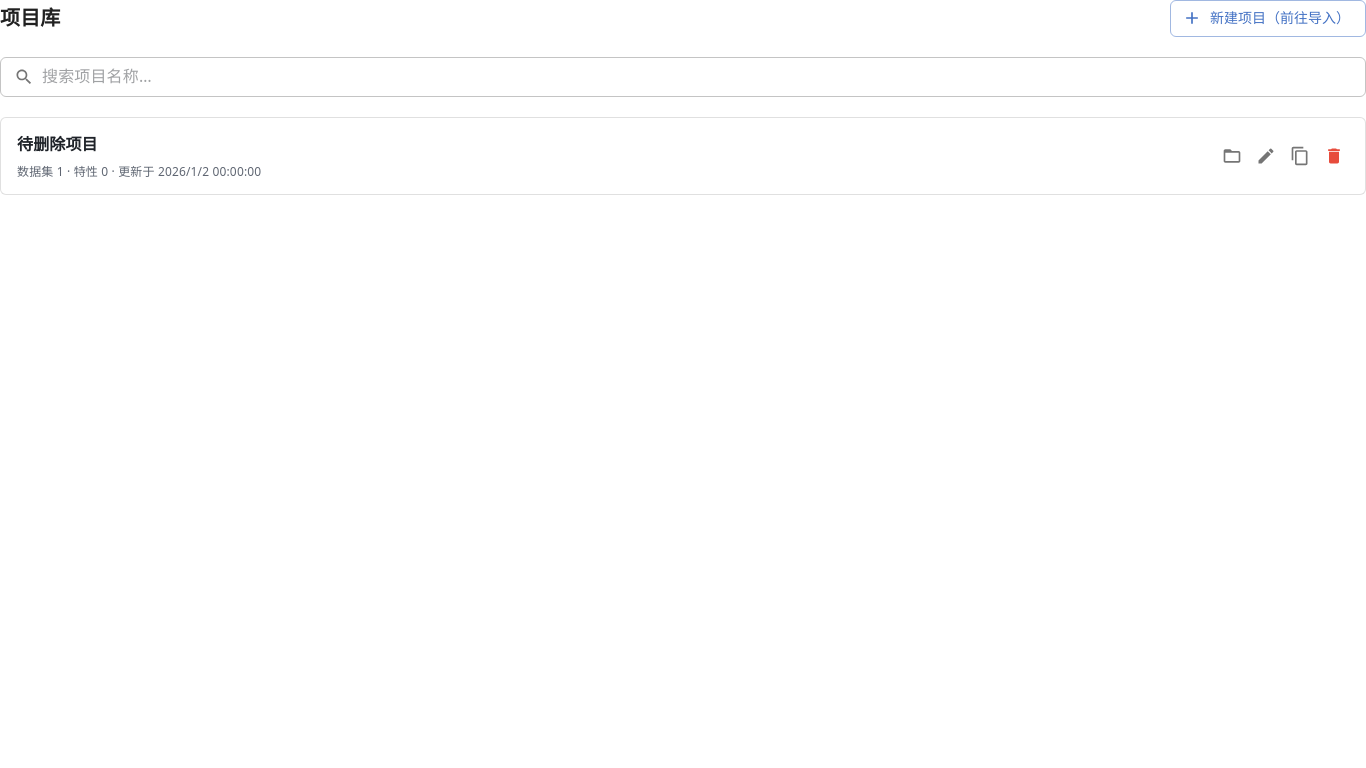
Test: ProjectLibraryPage › 删除项目（二次确认）→ 列表移除
Expected: the heading "待删除项目" is shown, [17,130,98,158]
Click the button named "删除项目" at {"x": 1334, "y": 156}, box [1319,140,1349,170]
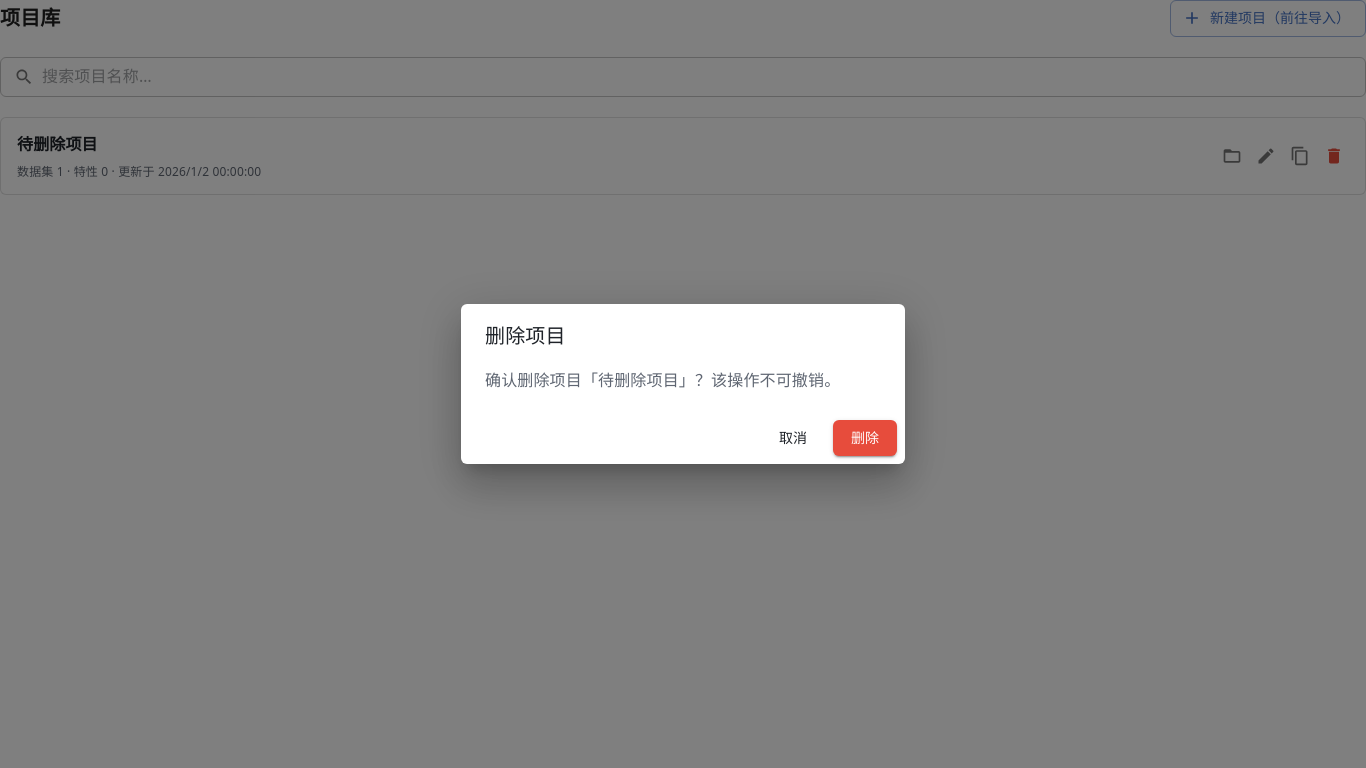
Result: the text "确认删除项目「待删除项目」？该操作不可撤销。" is shown at [485,368,881,392]
Note: 对话框中的「删除」按钮
Click the button "删除" at {"x": 865, "y": 438}, box [833,420,897,456]
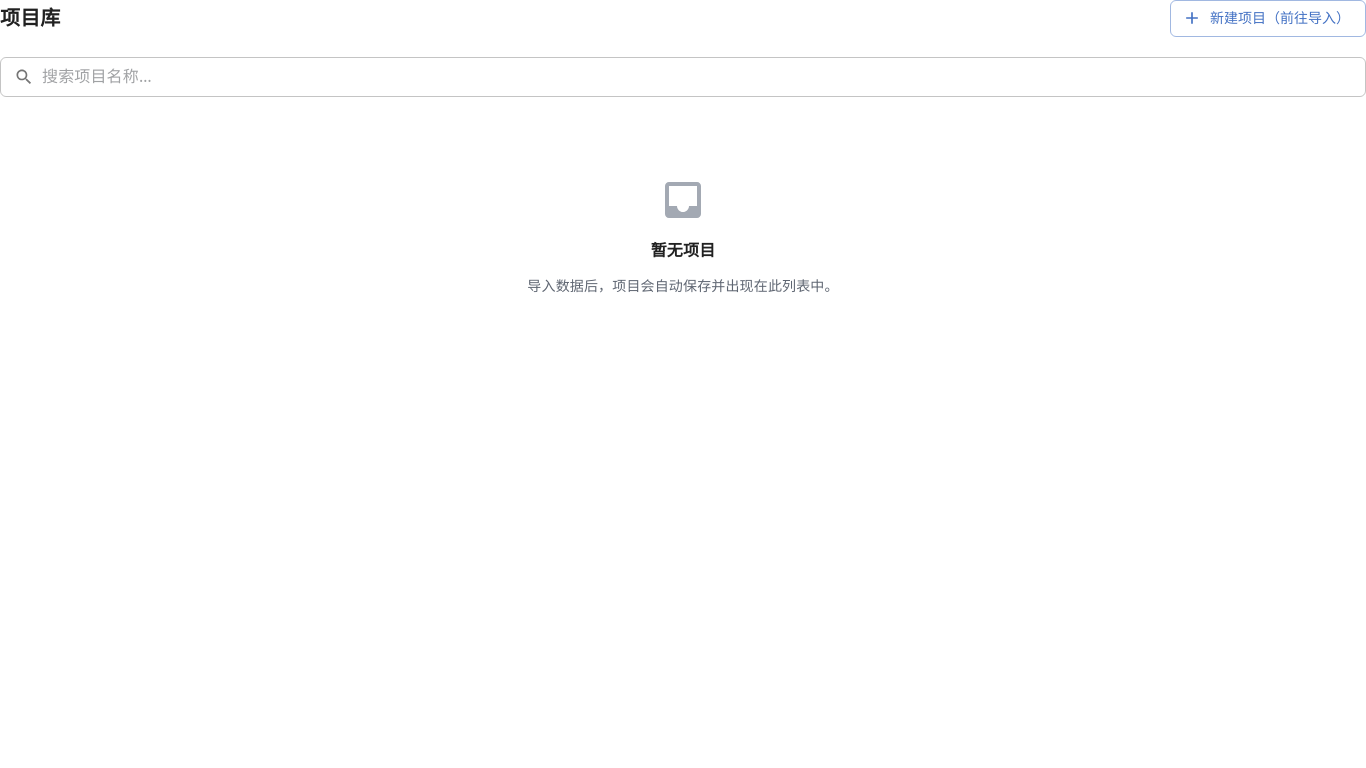
Result: the heading "待删除项目" is gone
